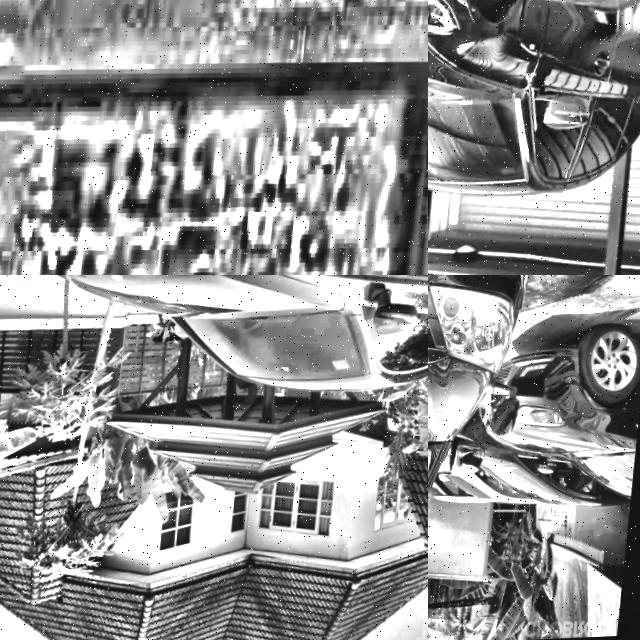license-plate: (0, 43, 428, 275)
